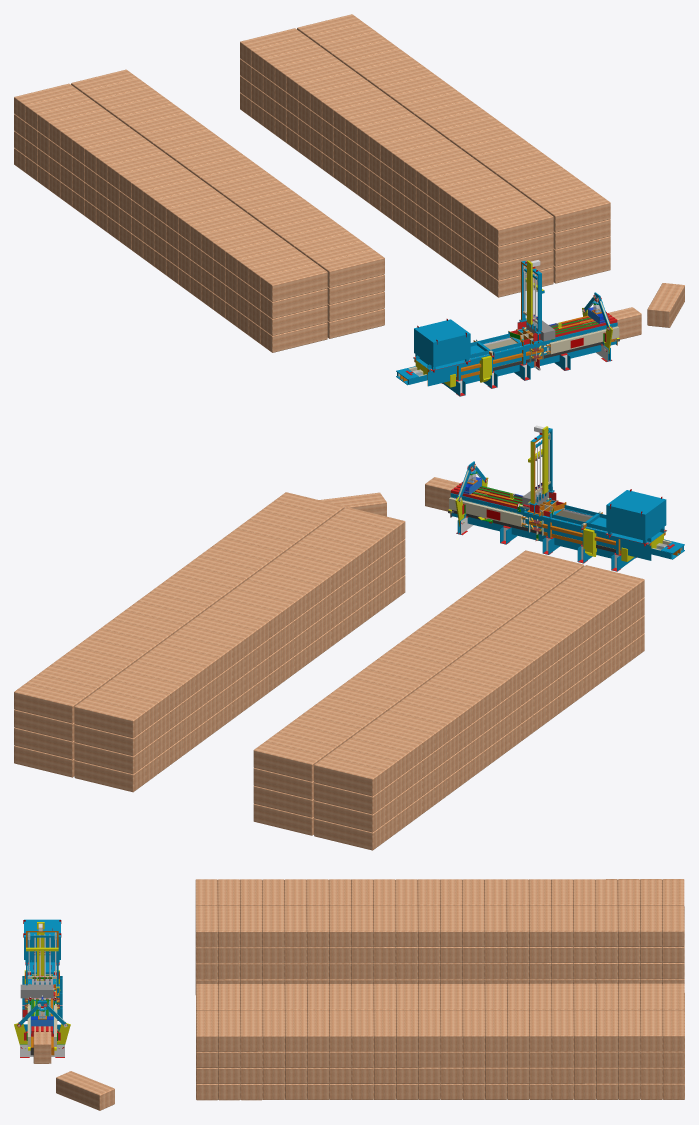
Rendered from conjunto.glb.
The picture shows the model from 3 angles, top to bottom: view 1: azimuth 30°, elevation 25°; view 2: azimuth 150°, elevation 25°; view 3: azimuth 270°, elevation 25°; orthographic projection. The views are drawn at different scales.
Visible parts, largest first — view 1: Solid1.002, Solid1.001, Solid1.004, Solid1; view 2: Solid1.002, Solid1.001, Solid1, Solid1.004; view 3: Solid1.002, Solid1.001, Solid1.004, Solid1.
Part boxes in pixels (left/top/right/bottom): Solid1.002: left=14, top=14, right=610, bottom=352; Solid1.001: left=396, top=260, right=619, bottom=396; Solid1.004: left=647, top=283, right=684, bottom=327; Solid1: left=578, top=307, right=641, bottom=339; Solid1.002: left=14, top=492, right=644, bottom=850; Solid1.001: left=448, top=425, right=684, bottom=571; Solid1: left=425, top=477, right=489, bottom=511; Solid1.004: left=319, top=492, right=386, bottom=516; Solid1.002: left=195, top=879, right=684, bottom=1100; Solid1.001: left=14, top=919, right=70, bottom=1057; Solid1.004: left=56, top=1071, right=114, bottom=1110; Solid1: left=33, top=1026, right=51, bottom=1063.
Bounding box in the file's own units: 14.3 × 4.07 × 24.16.
42 materials, 3 textured.
